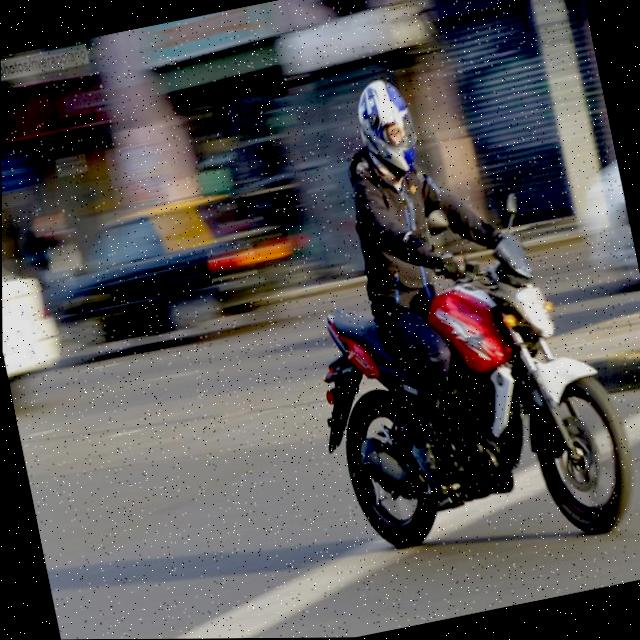motorcycle: (264, 174, 640, 577)
